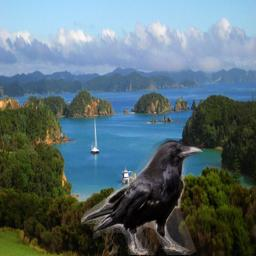Crow: (81, 138, 203, 255)
